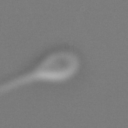normal: (1, 67, 35, 98)
